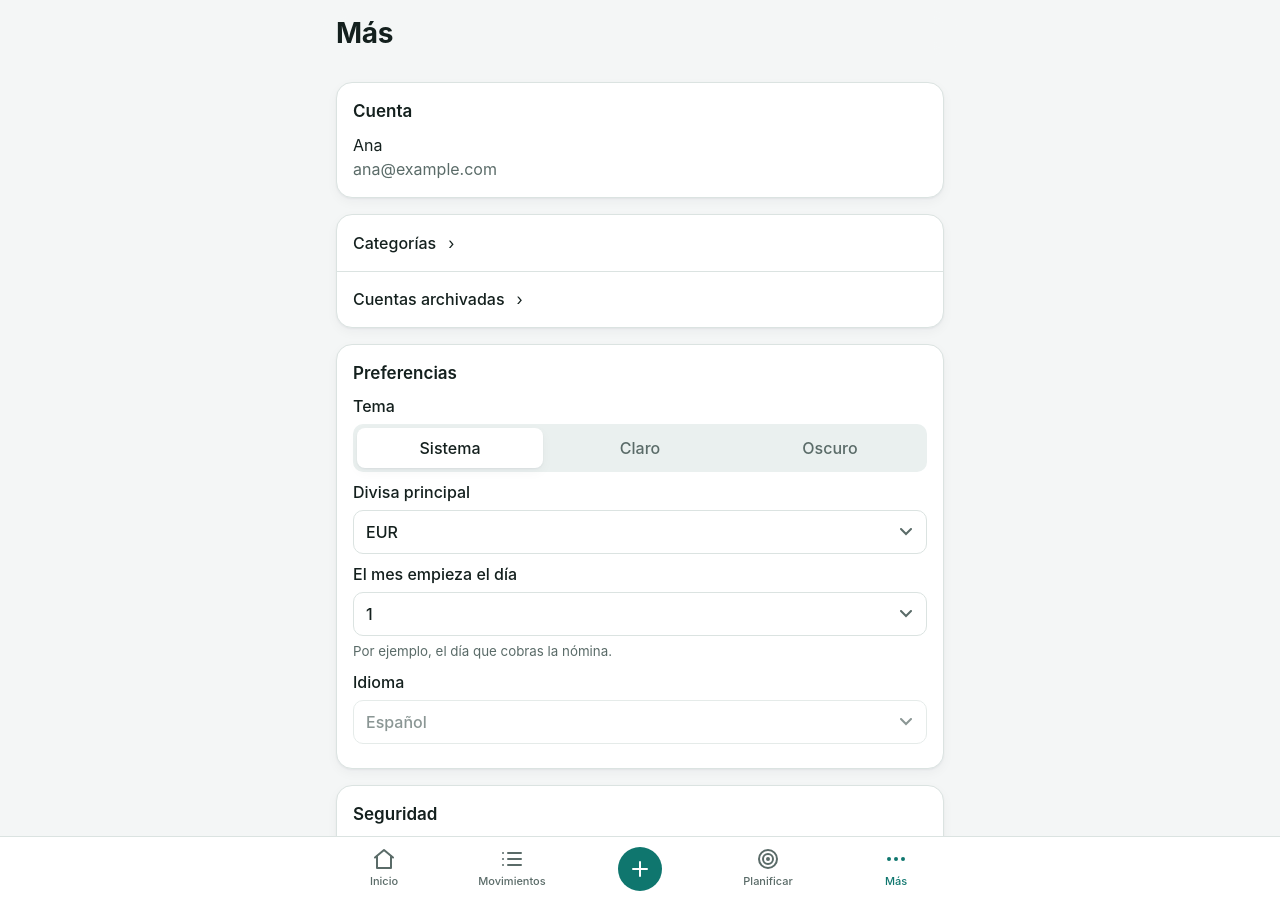
Test case: settings › saves the day the financial month starts
This screenshot has width=1280, height=900.
Select "25" in the dropdown labelled "El mes empieza el día" at x=640, y=614, box [353,592,927,636]
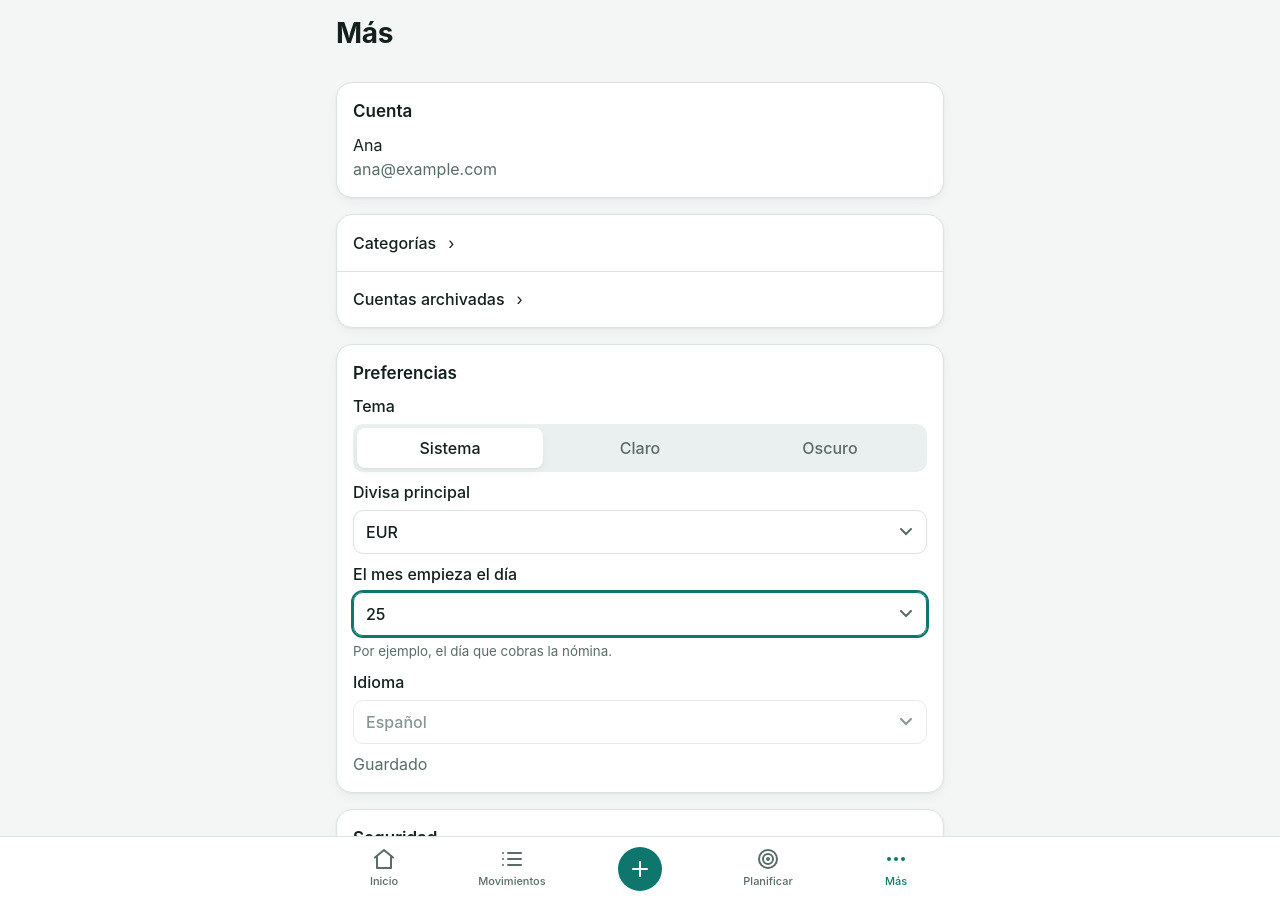
Now the text "Guardado" is shown, box [353,754,427,774]
